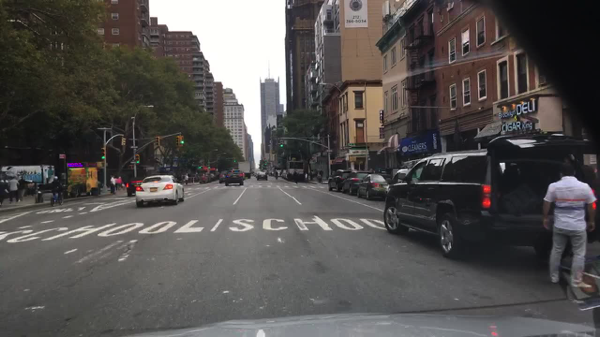bike: (49, 185, 66, 206)
car: (382, 134, 598, 258), (134, 173, 185, 209), (66, 166, 99, 197), (384, 168, 411, 200), (356, 174, 387, 200), (341, 172, 366, 196), (326, 168, 352, 191), (125, 175, 146, 197), (34, 187, 64, 202), (225, 169, 244, 186), (285, 168, 307, 182), (198, 173, 213, 185), (219, 170, 228, 184), (257, 171, 268, 181), (210, 171, 218, 181), (274, 168, 279, 180), (270, 164, 275, 176), (281, 170, 287, 179)
person: (540, 150, 597, 288), (10, 175, 21, 203), (17, 176, 28, 202), (0, 177, 9, 203), (109, 173, 117, 195), (117, 176, 124, 191), (294, 170, 299, 185), (184, 172, 189, 184)
rider: (49, 176, 65, 203)
traffic light: (101, 147, 106, 161), (154, 136, 160, 147), (175, 134, 179, 146), (135, 154, 140, 163), (180, 136, 184, 147), (127, 164, 134, 170), (122, 137, 126, 147), (279, 141, 284, 148), (232, 158, 236, 164), (198, 165, 202, 170)
traffic sign: (347, 156, 357, 163), (59, 153, 66, 159)
truck: (238, 159, 252, 179)
